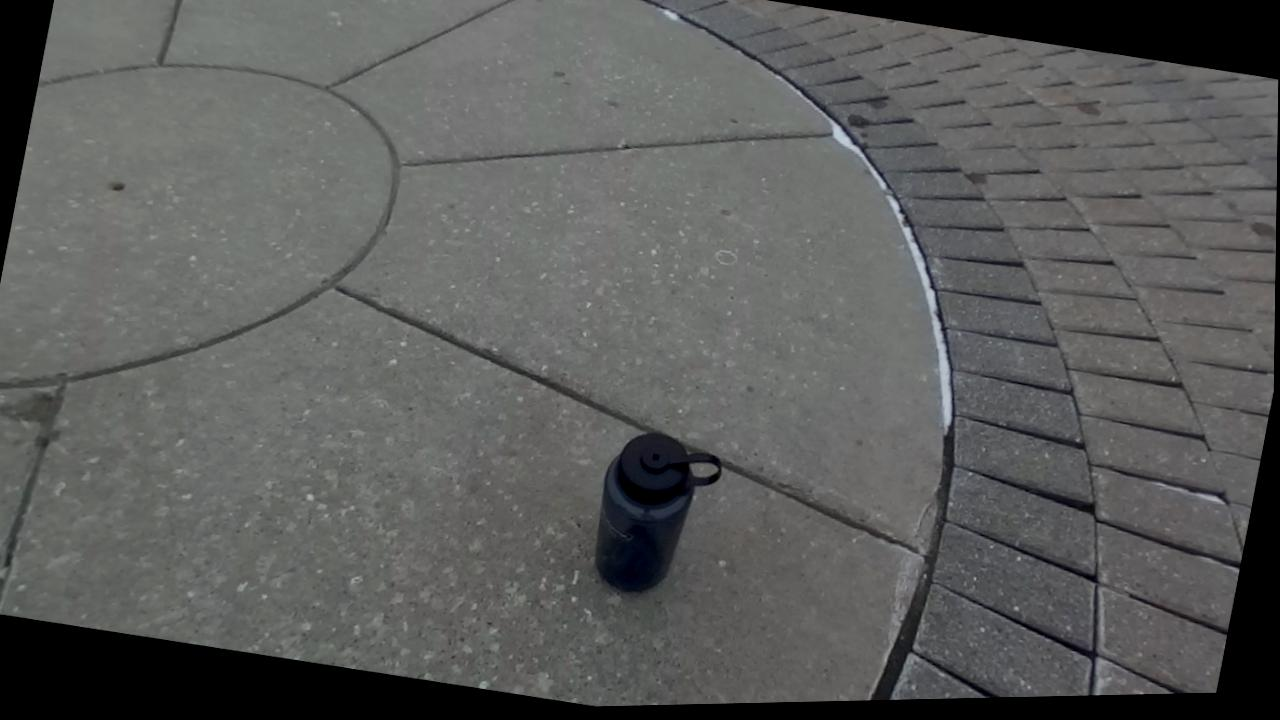bottle: (595, 432, 720, 589)
